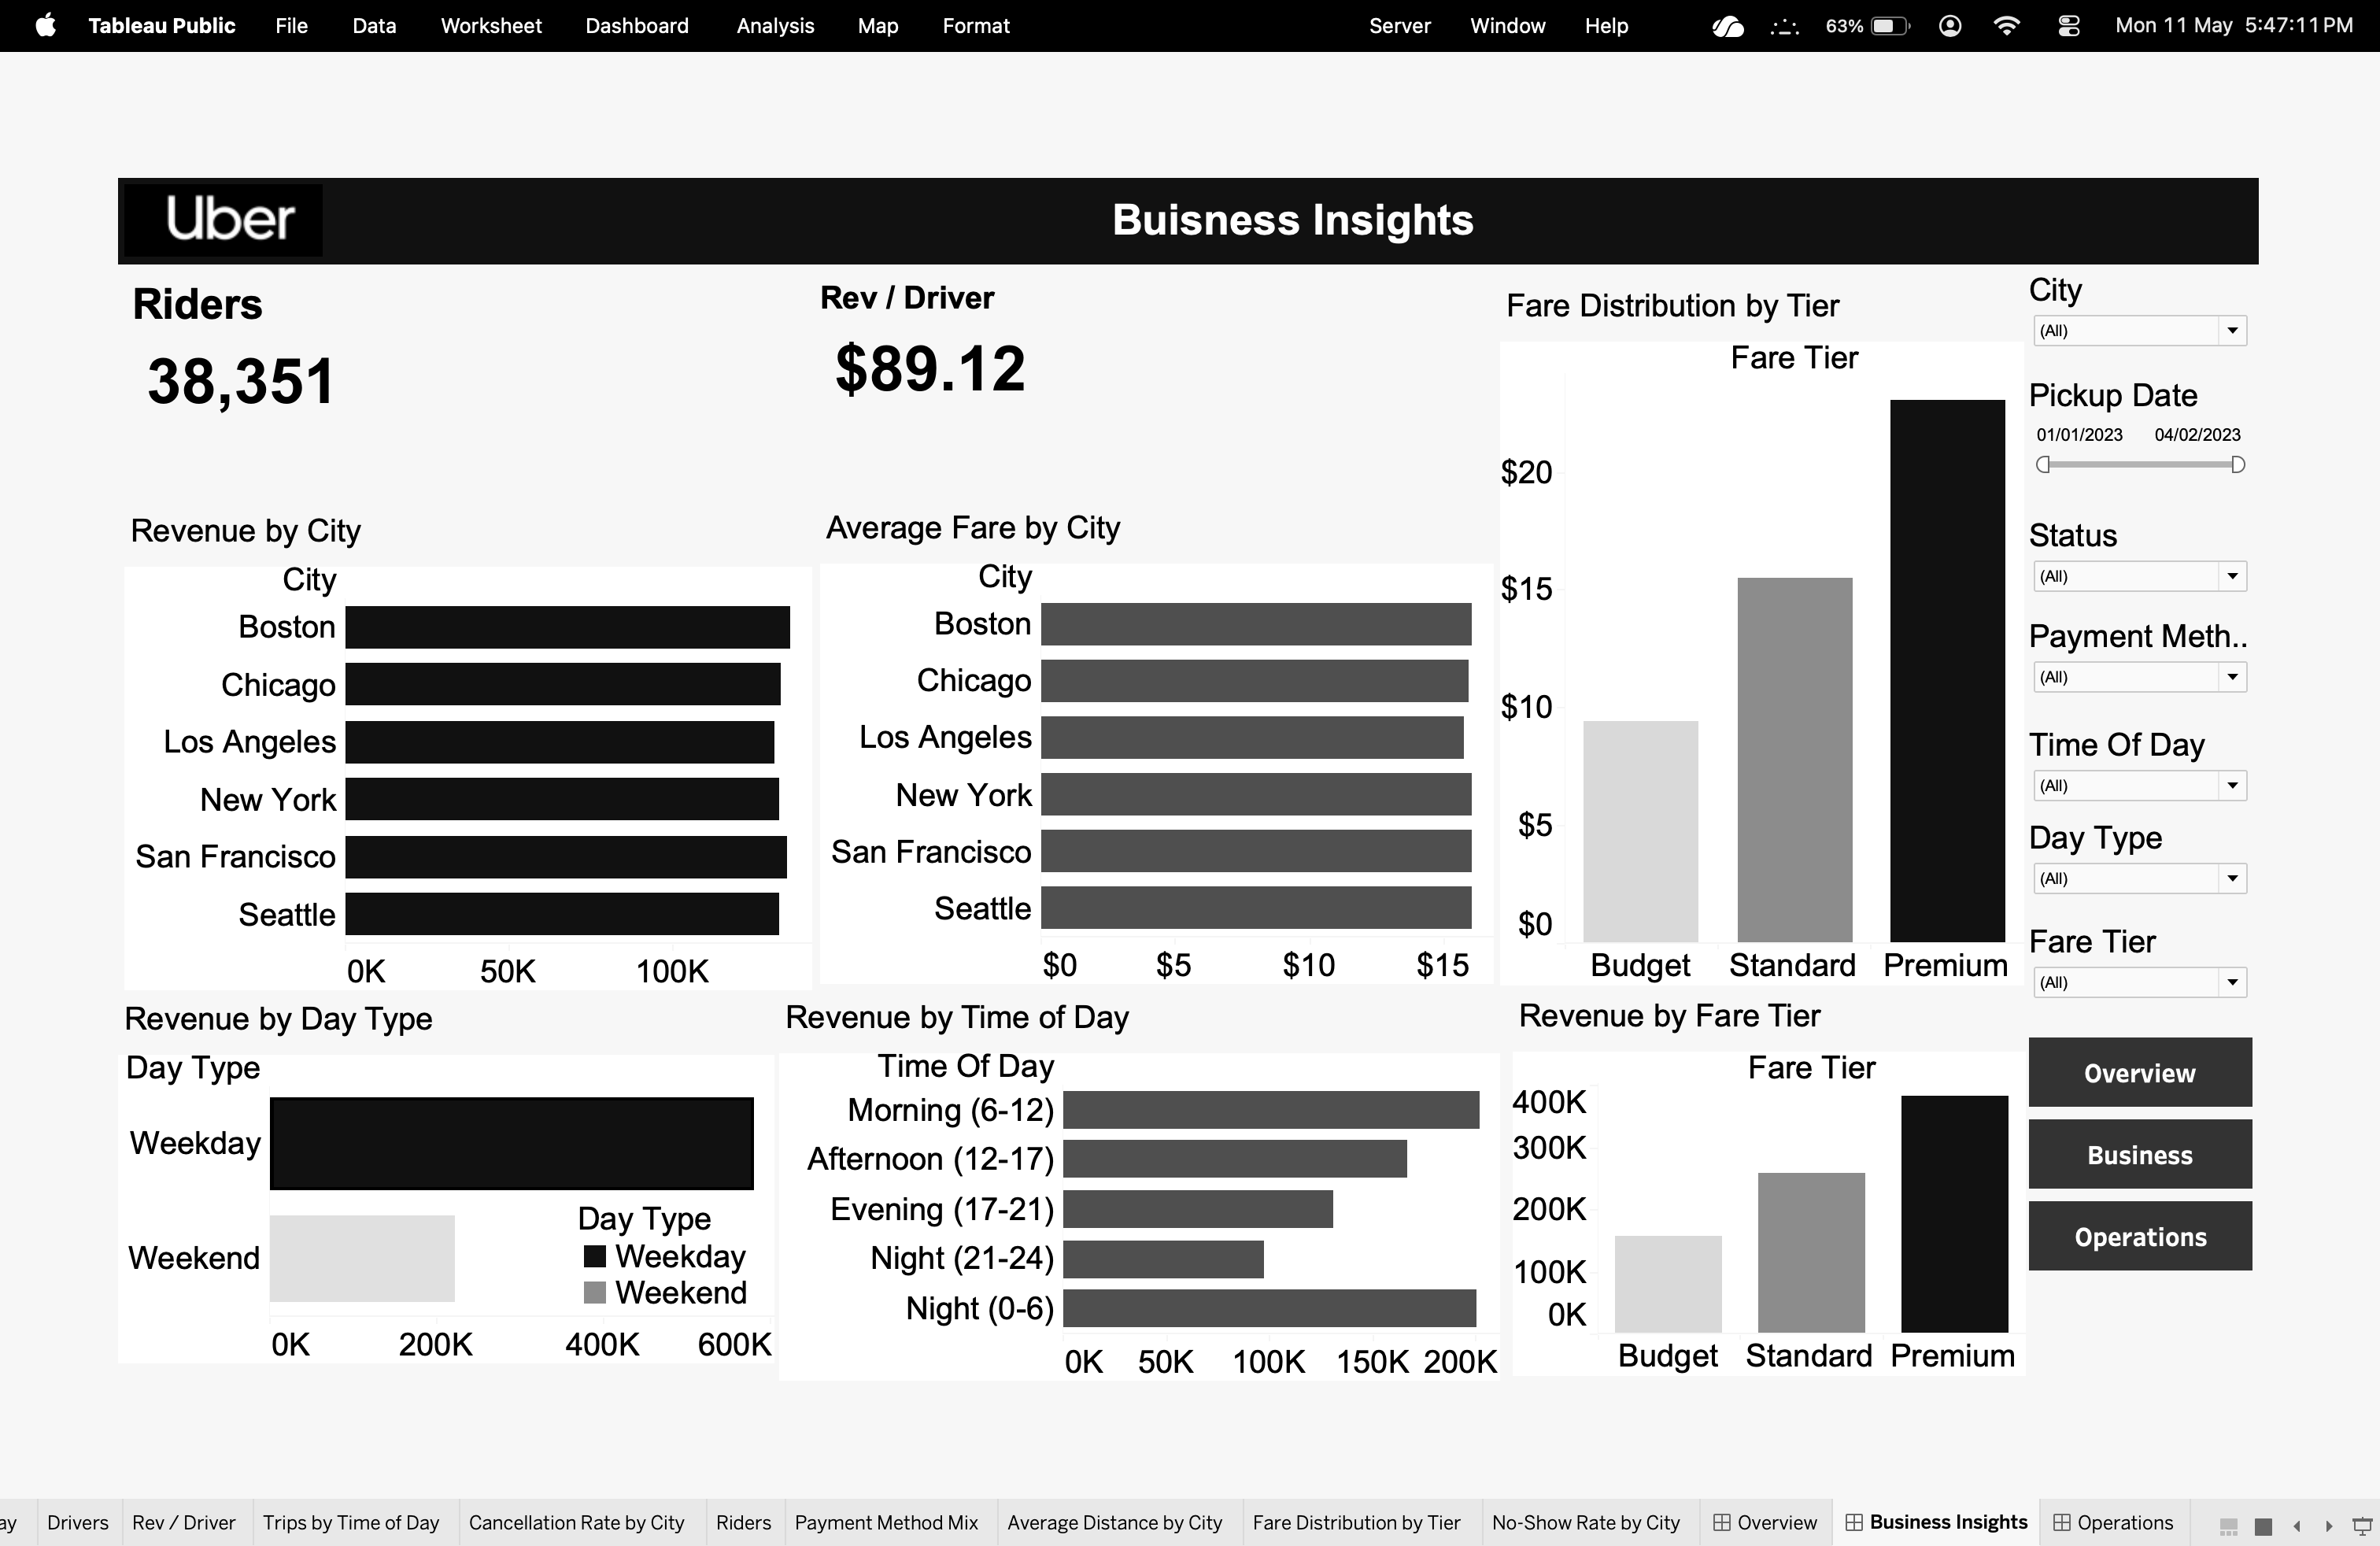

What the dashboard file says about the page in this screenshot:
{"tool":"tableau","page":{"name":"Business Insights","canvas":[1366,768],"ordinal":0},"visuals":[{"type":"image","param":"Image/Screenshot 2026-03-15 at 1.22.16 PM.png","box":[2,5,134,55]},{"type":"text","box":[136,5,1226,55]},{"type":"filter","title":"Filters","param":"[federated.15wm6x10a793qk11a4zd71k7cxxn].[none:city:nk]","box":[1212,61,150,67]},{"type":"worksheet","title":"Riders","mark":"Text","box":[3,62,437,111]},{"type":"worksheet","title":"Rev / Driver","mark":"Text","box":[440,62,436,111]},{"type":"worksheet","title":"Fare Distribution by Tier","mark":"Automatic","rows":["Calculation_2166862617403402"],"cols":["fare_tier"],"box":[880,71,333,447]},{"type":"filter","title":"Filters","param":"[federated.15wm6x10a793qk11a4zd71k7cxxn].[none:pickup_date:qk]","box":[1212,128,150,89]},{"type":"worksheet","title":"Average Fare by City","mark":"Automatic","rows":["city"],"cols":["Calculation_2166862617403402"],"box":[448,212,428,305]},{"type":"worksheet","title":"Revenue by City","mark":"Automatic","rows":["city"],"cols":["Calculation_2166862617346057"],"box":[6,214,437,307]},{"type":"filter","title":"Filters","param":"[federated.15wm6x10a793qk11a4zd71k7cxxn].[none:status:nk]","box":[1212,217,150,64]},{"type":"filter","title":"Filters","param":"[federated.15wm6x10a793qk11a4zd71k7cxxn].[none:payment_method:nk]","box":[1212,281,150,69]},{"type":"filter","title":"Filters","param":"[federated.15wm6x10a793qk11a4zd71k7cxxn].[none:time_of_day:nk]","box":[1212,350,150,59]},{"type":"filter","title":"Filters","param":"[federated.15wm6x10a793qk11a4zd71k7cxxn].[none:day_type:nk]","box":[1212,409,150,66]},{"type":"filter","title":"Filters","param":"[federated.15wm6x10a793qk11a4zd71k7cxxn].[none:fare_tier:nk]","box":[1212,475,150,72]},{"type":"worksheet","title":"Revenue by Fare Tier","mark":"Automatic","rows":["Calculation_2166862617346057"],"cols":["fare_tier"],"box":[888,522,326,244]},{"type":"worksheet","title":"Revenue by Time of Day","mark":"Automatic","rows":["time_of_day"],"cols":["Calculation_2166862617346057"],"box":[422,523,458,246]},{"type":"worksheet","title":"Revenue by Day Type","mark":"Automatic","rows":["day_type"],"cols":["Calculation_2166862617346057"],"box":[2,524,417,234]},{"type":"dashboard-object","box":[1212,547,150,52]},{"type":"dashboard-object","box":[1212,599,150,52]},{"type":"dashboard-object","box":[1212,651,150,52]},{"type":"legend","title":"Revenue by Day Type","param":"[federated.15wm6x10a793qk11a4zd71k7cxxn].[none:day_type:nk]","box":[294,655,122,76]},{"type":"worksheet","title":"Filters","mark":"Automatic","box":[1255,700,77,47]}]}

Visuals, with their boxes on the page's 1366x768 design canvas (x1, y1, x2, y2). These are canvas units, not pixel positions in the 2380x1546 screenshot, which may show the page scaled, cropped or inside an application window:
image: 2 5 136 60
text: 136 5 1362 60
"Filters" filter: 1212 61 1362 128
"Riders" worksheet (Text marks): 3 62 440 173
"Rev / Driver" worksheet (Text marks): 440 62 876 173
"Fare Distribution by Tier" worksheet: 880 71 1213 518
"Filters" filter: 1212 128 1362 217
"Average Fare by City" worksheet: 448 212 876 517
"Revenue by City" worksheet: 6 214 443 521
"Filters" filter: 1212 217 1362 281
"Filters" filter: 1212 281 1362 350
"Filters" filter: 1212 350 1362 409
"Filters" filter: 1212 409 1362 475
"Filters" filter: 1212 475 1362 547
"Revenue by Fare Tier" worksheet: 888 522 1214 766
"Revenue by Time of Day" worksheet: 422 523 880 769
"Revenue by Day Type" worksheet: 2 524 419 758
dashboard-object: 1212 547 1362 599
dashboard-object: 1212 599 1362 651
dashboard-object: 1212 651 1362 703
"Revenue by Day Type" legend: 294 655 416 731
"Filters" worksheet: 1255 700 1332 747
